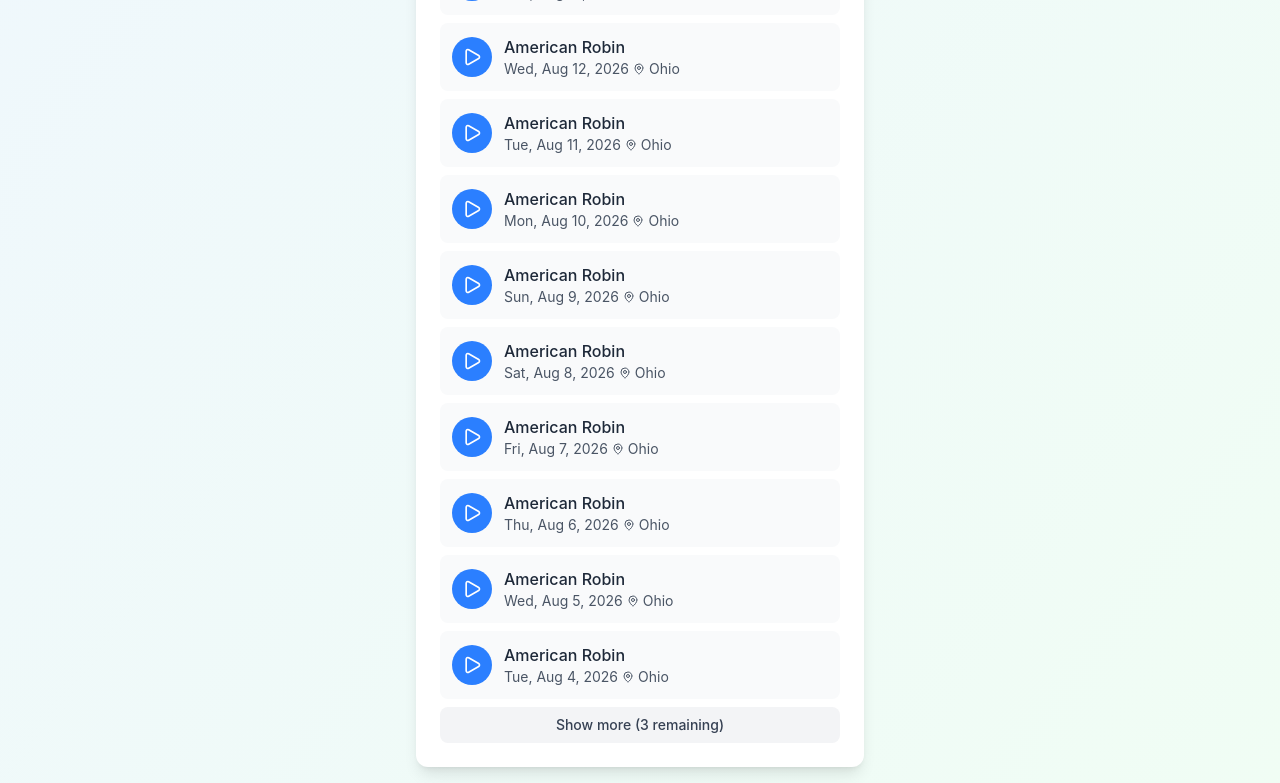
Test: HistoryView › should paginate with Show more
(page scrolled)
Step 1. Click the button "Show more (3 remaining)" → click(640, 725), box [440, 707, 840, 743]
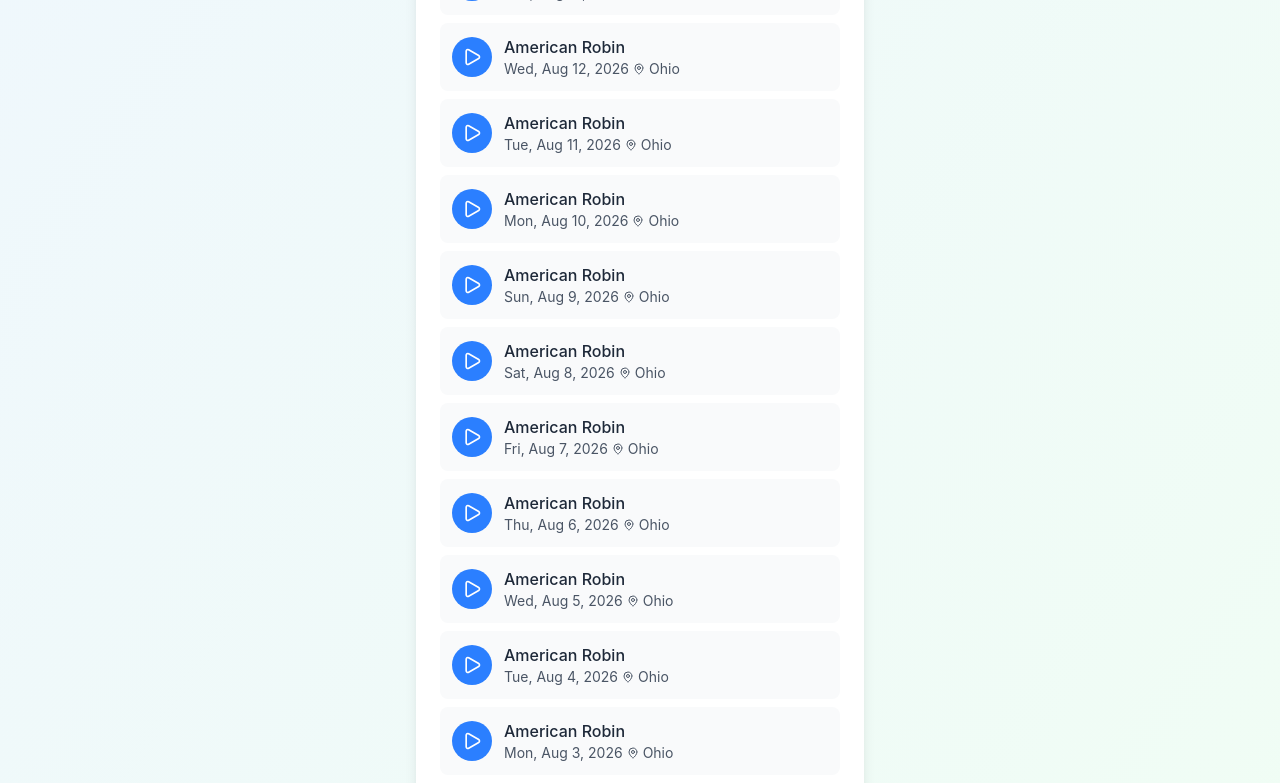
Result: the button "Show more" is gone
